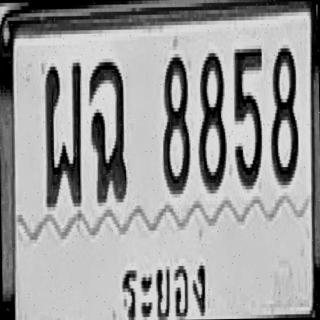A09: (88, 58, 127, 203)
A28: (43, 59, 83, 207)
N05: (232, 45, 264, 189)
N08: (196, 49, 226, 190), (269, 44, 298, 185), (161, 52, 190, 192)
P53: (115, 245, 214, 320)
